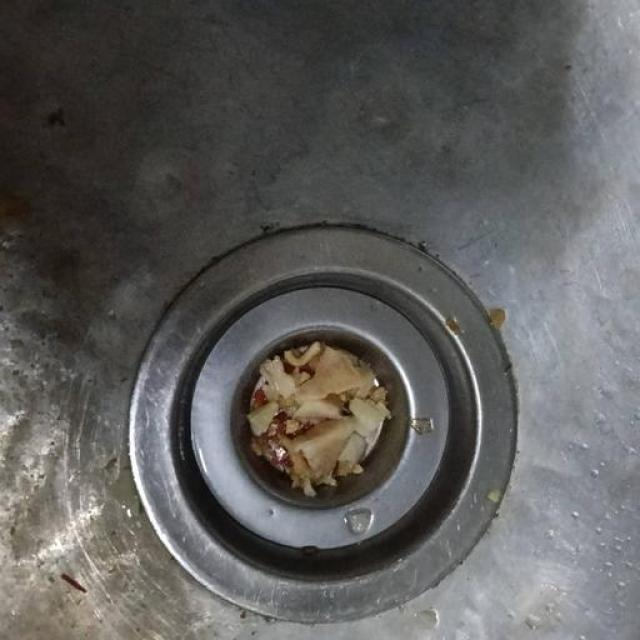organic: (245, 264, 453, 617)
